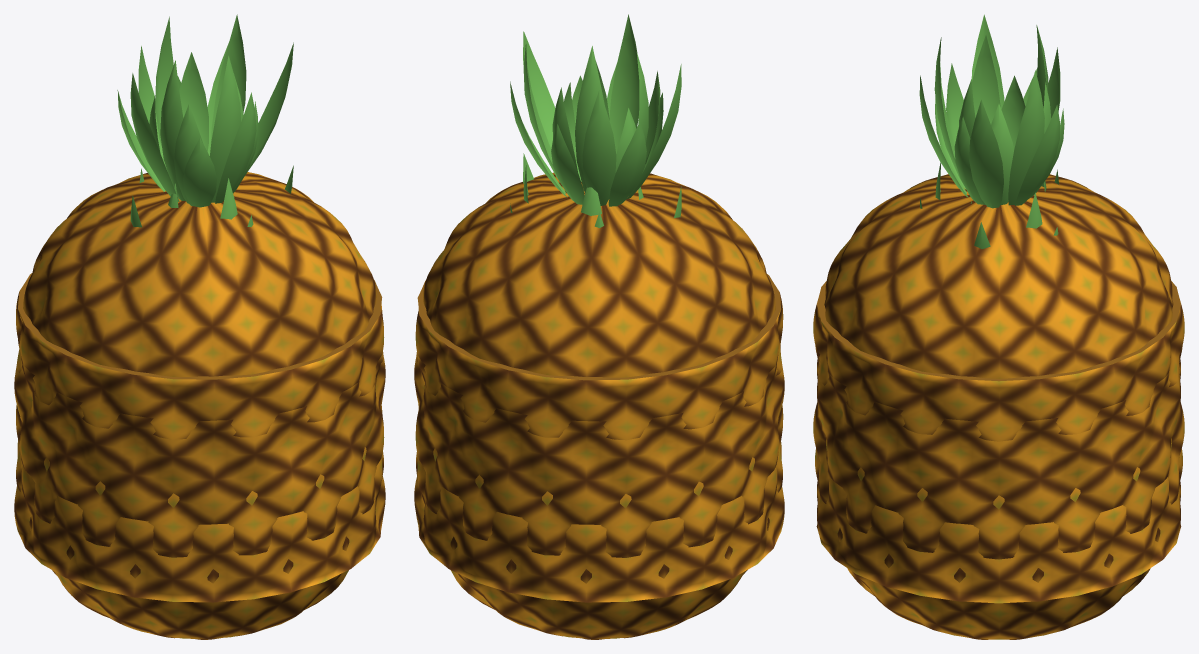
Rendered from pineapple.glb.
3 renders of one model, left to right at view 1: azimuth 30°, elevation 25°; view 2: azimuth 150°, elevation 25°; view 3: azimuth 270°, elevation 25°, orthographic.
Parts seen in each view (by area): view 1: whole, top, bot; view 2: whole, top, bot; view 3: whole, top, bot.
Part boxes in pixels (left/top/right/bottom): whole: left=14, top=14, right=385, bottom=639; top: left=14, top=160, right=385, bottom=602; bot: left=16, top=273, right=384, bottom=439; whole: left=414, top=14, right=784, bottom=639; top: left=414, top=153, right=784, bottom=602; bot: left=415, top=274, right=783, bottom=440; whole: left=813, top=14, right=1184, bottom=639; top: left=815, top=163, right=1182, bottom=603; bot: left=813, top=281, right=1184, bottom=441.
Bounding box in the file's own units: 0.7061 × 1.24 × 0.706.
Materials: 3 (2 with a texture image).
